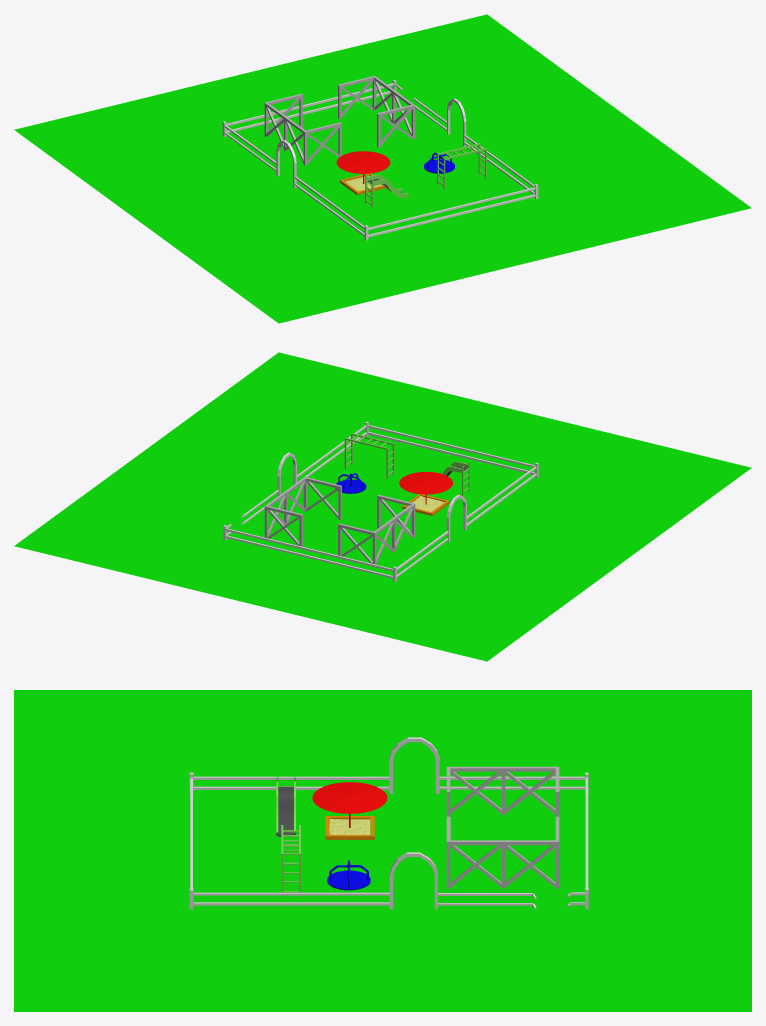
The model's file is MapFBX_finalwork.fbx.
3 renders of one model, top to bottom at view 1: azimuth 30°, elevation 25°; view 2: azimuth 150°, elevation 25°; view 3: azimuth 270°, elevation 25°, orthographic. The views are drawn at different scales.
Visible parts, largest first — view 1: Plane, Cube.027, Cylinder, Cube.039, Cube.032; view 2: Plane, Cube.027, Cylinder, Cube.039; view 3: Plane, Cube.027, Cylinder, Cube.032, Cube.039, Cylinder.001, Cube.031, Cube.029.
Boxes of the visible parts, x1,y1,x2,y2 form: Plane: [14, 14, 751, 323]; Cube.027: [222, 80, 538, 240]; Cylinder: [336, 151, 390, 183]; Cube.039: [437, 143, 486, 189]; Cube.032: [365, 174, 408, 208]; Plane: [14, 352, 751, 661]; Cube.027: [223, 421, 538, 581]; Cylinder: [399, 472, 452, 504]; Cube.039: [344, 433, 394, 479]; Plane: [14, 690, 751, 1011]; Cube.027: [189, 737, 588, 909]; Cylinder: [312, 782, 387, 827]; Cube.032: [276, 777, 295, 836]; Cube.039: [281, 825, 300, 896]; Cylinder.001: [327, 862, 370, 890]; Cube.031: [329, 818, 370, 834]; Cube.029: [325, 816, 374, 839].
Bounding box in the file's own units: 39982 × 3319 × 38748.
